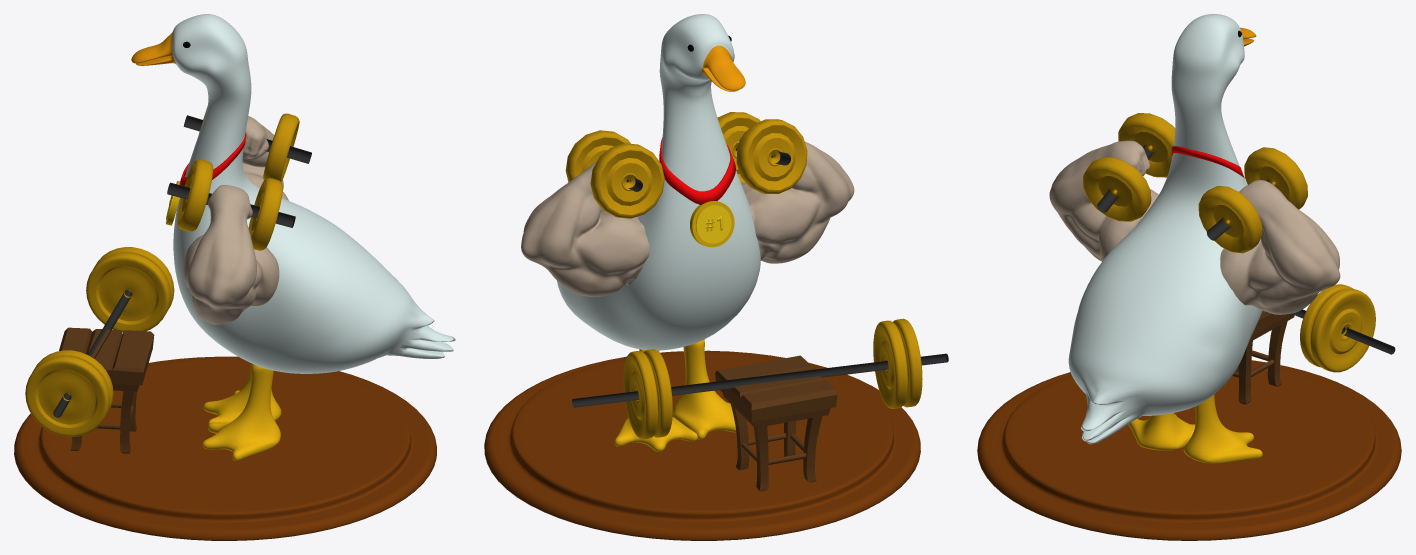
File: duck_bodybuilder.glb
3 views of the same model, side by side, from view 1: azimuth 30°, elevation 25°; view 2: azimuth 150°, elevation 25°; view 3: azimuth 270°, elevation 25° (orthographic). The views are drawn at different scales.
Parts seen in each view (by area): view 1: object 20, pCube2_13, Object_4, Cylinder.002_04 - Default_0_7, Cylinder.005_04 - Default_0_9, pCube2.004_16, legs_lp_Material_0_2, Cylinder.026_04 - Default_0_6, Object_6, Cylinder.026_04 - Default_0.001_11, pCube2.001_14, Cylinder.020_Metal_0_3 (+4 smaller); view 2: object 20, pCube2_13, Object_6, legs_lp_Material_0_2, Object_4, Cylinder.026_04 - Default_0.001_11, Cylinder.026_04 - Default_0_6, pCube2.004_16, Cylinder.020_Metal_0_3, Cylinder.004_04 - Default_0_8, Cylinder.022_04 - Default_0_4, Cylinder.002_04 - Default_0_7 (+5 smaller); view 3: object 20, pCube2_13, Object_6, Cylinder.026_04 - Default_0_6, Cylinder.026_04 - Default_0.001_11, Object_4, pCube2.004_16, Cylinder.004_04 - Default_0_8, legs_lp_Material_0_2, Cylinder.005_04 - Default_0_9, Cylinder.020_Metal_0_3, pCube2.003_18.
Part boxes in pixels (<box>): object 20: <box>14,356,436,540</box>; pCube2_13: <box>172,14,455,373</box>; Object_4: <box>183,185,279,324</box>; Cylinder.002_04 - Default_0_7: <box>25,356,109,436</box>; Cylinder.005_04 - Default_0_9: <box>86,253,170,332</box>; pCube2.004_16: <box>202,363,281,460</box>; legs_lp_Material_0_2: <box>59,327,154,453</box>; Cylinder.026_04 - Default_0_6: <box>177,159,282,250</box>; Object_6: <box>242,116,288,200</box>; Cylinder.026_04 - Default_0.001_11: <box>199,107,299,182</box>; pCube2.001_14: <box>131,32,175,65</box>; Cylinder.020_Metal_0_3: <box>53,290,132,417</box>; object 20: <box>484,350,920,540</box>; pCube2_13: <box>557,14,760,350</box>; Object_6: <box>521,161,649,296</box>; legs_lp_Material_0_2: <box>715,355,837,491</box>; Object_4: <box>739,136,854,263</box>; Cylinder.026_04 - Default_0.001_11: <box>565,130,664,218</box>; Cylinder.026_04 - Default_0_6: <box>717,112,807,193</box>; pCube2.004_16: <box>614,339,736,451</box>; Cylinder.020_Metal_0_3: <box>572,353,948,407</box>; Cylinder.004_04 - Default_0_8: <box>623,351,658,439</box>; Cylinder.022_04 - Default_0_4: <box>873,320,907,408</box>; Cylinder.002_04 - Default_0_7: <box>893,318,922,407</box>; object 20: <box>977,360,1401,540</box>; pCube2_13: <box>1068,14,1262,444</box>; Object_6: <box>1220,180,1340,314</box>; Cylinder.026_04 - Default_0_6: <box>1083,113,1175,221</box>; Cylinder.026_04 - Default_0.001_11: <box>1198,147,1307,253</box>; Object_4: <box>1049,140,1158,261</box>; pCube2.004_16: <box>1128,394,1262,463</box>; Cylinder.004_04 - Default_0_8: <box>1310,288,1375,372</box>; legs_lp_Material_0_2: <box>1232,311,1294,404</box>; Cylinder.005_04 - Default_0_9: <box>1300,284,1353,367</box>; Cylinder.020_Metal_0_3: <box>1291,309,1395,354</box>; pCube2.003_18: <box>1171,146,1244,177</box>.
Size of the model in its own units: 4.91 by 5.23 by 4.62.
